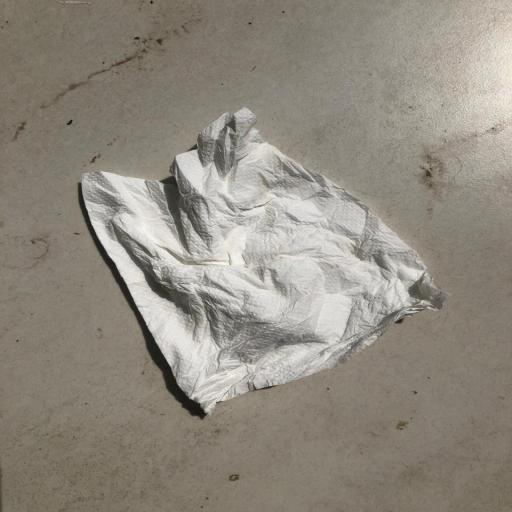waste: (55, 101, 460, 417)
